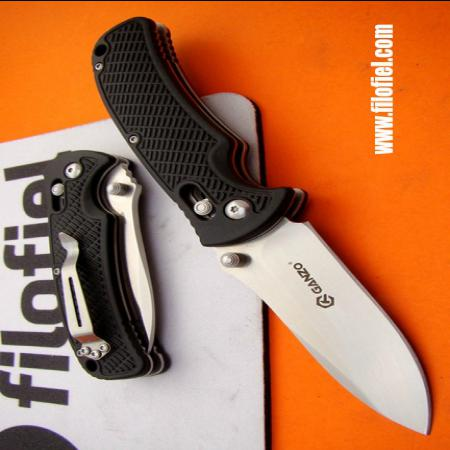long weapon: (197, 209, 437, 441)
